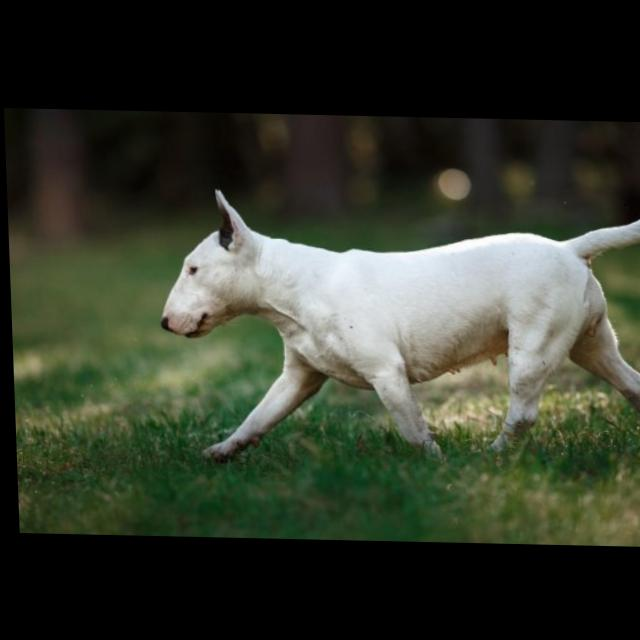bullterrier: (154, 175, 640, 471)
